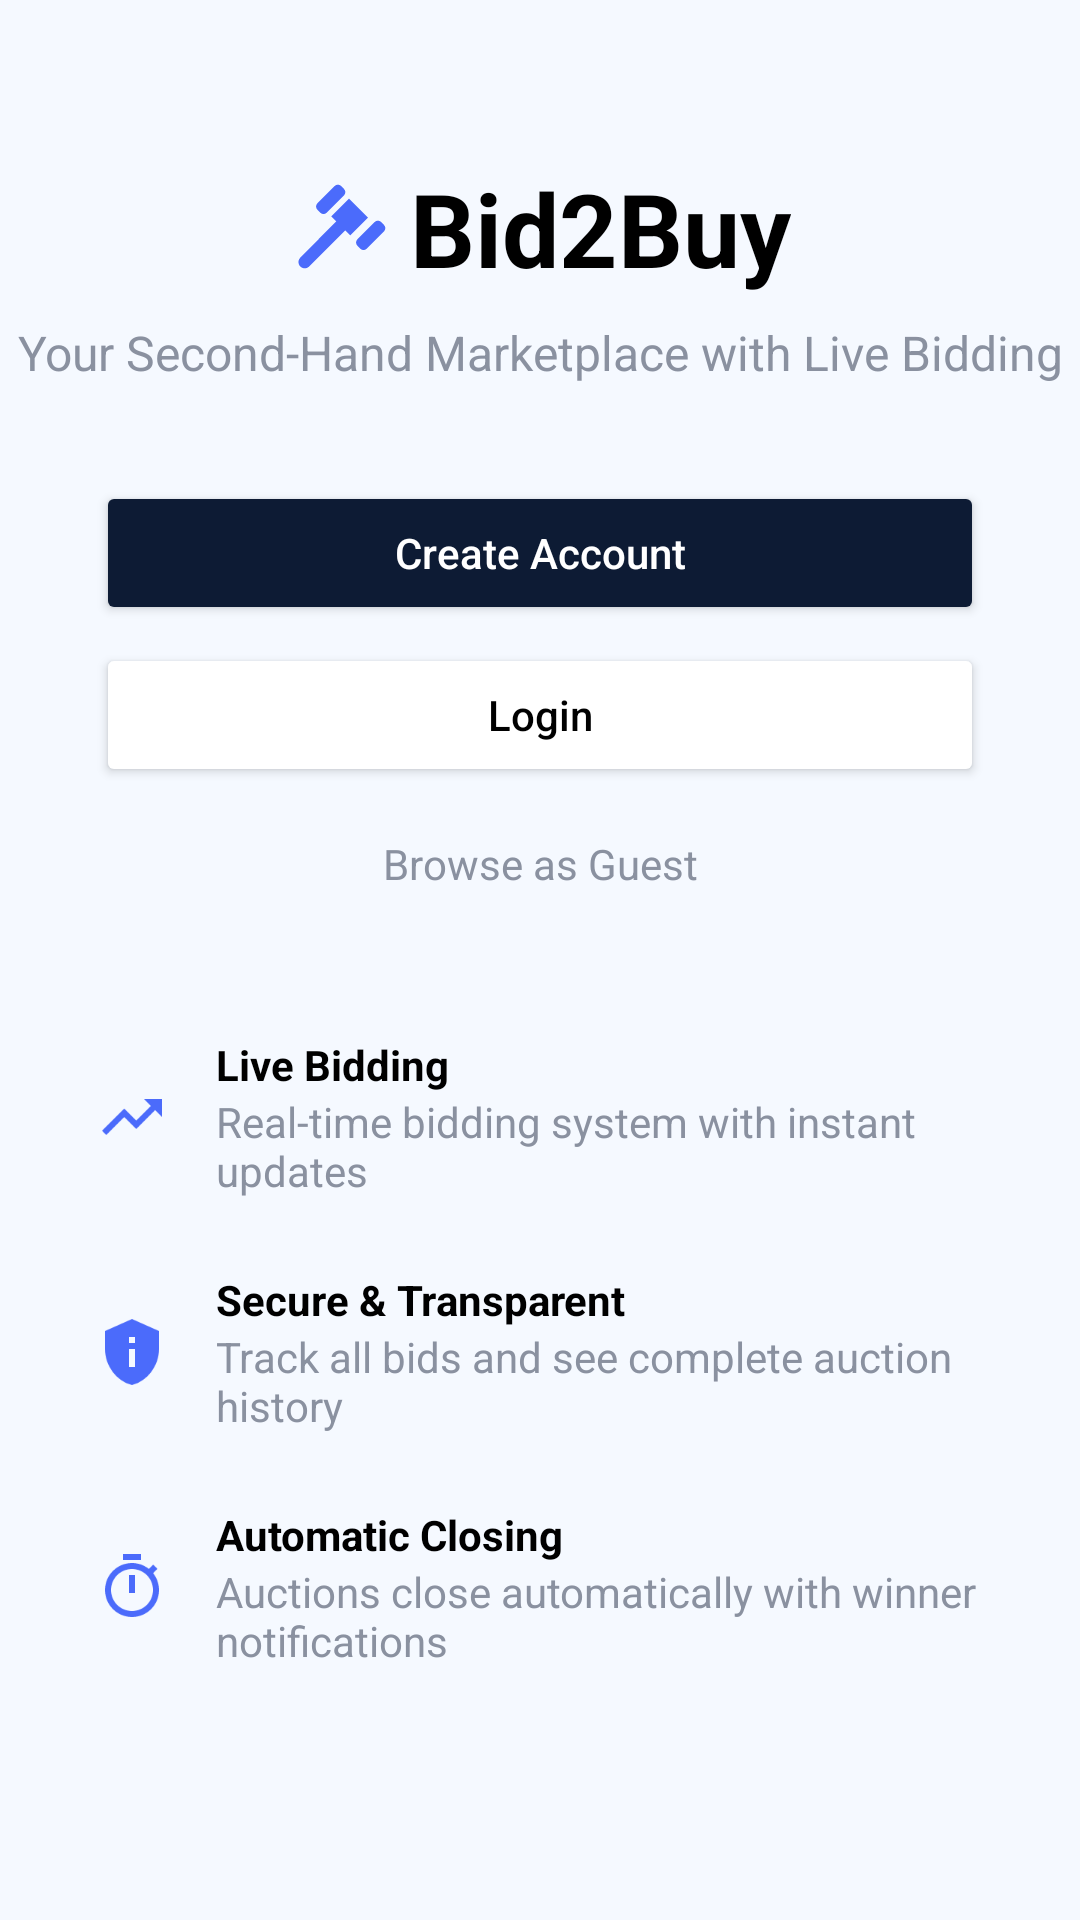

Icons on this 1080w x 1920h Android screen, each with its box as (x1, y1, x2, y2):
gavel: (298, 184, 386, 269)
timer: (105, 1554, 159, 1617)
